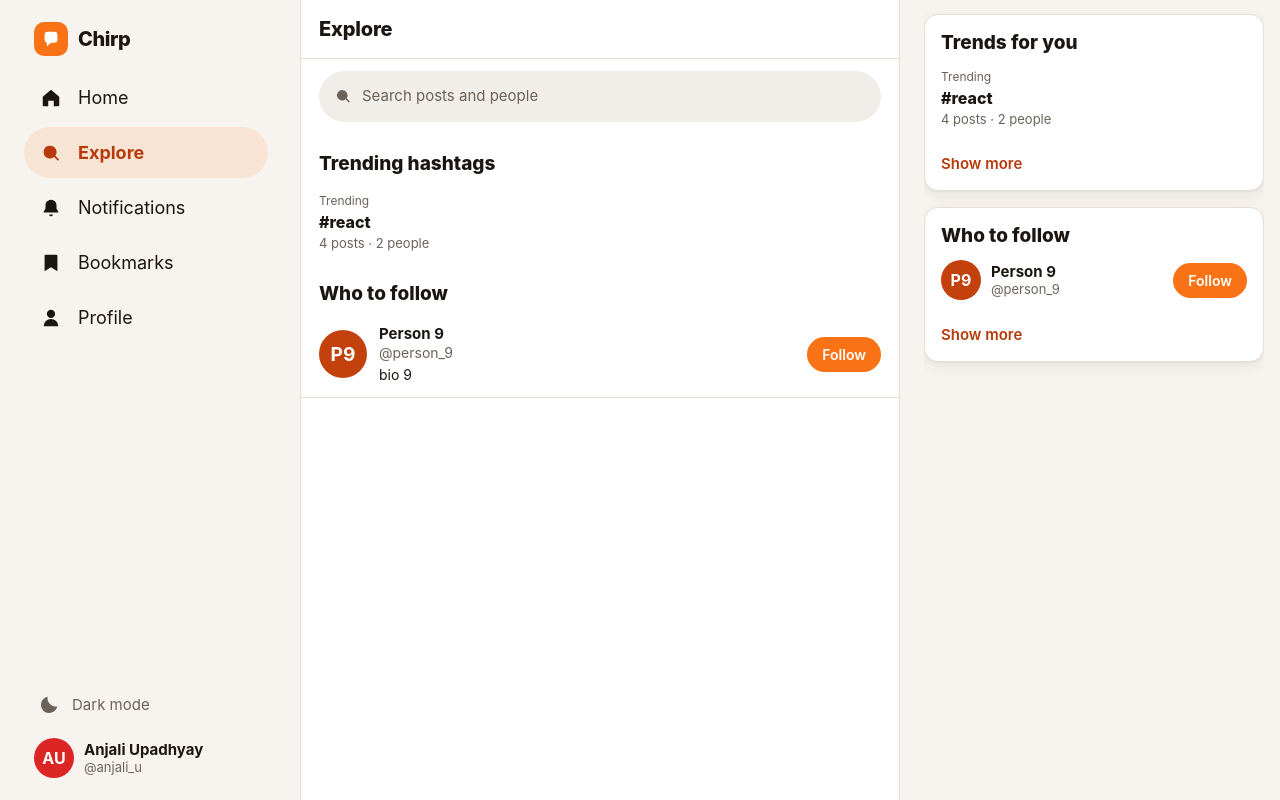
it: Explore › clicking a hashtag (in a post or the trends) searches for it
Click the link "Trending #react 4 posts · 2 people" below "Trending hashtags".
click(344, 200)  # box [319,193,429,251]
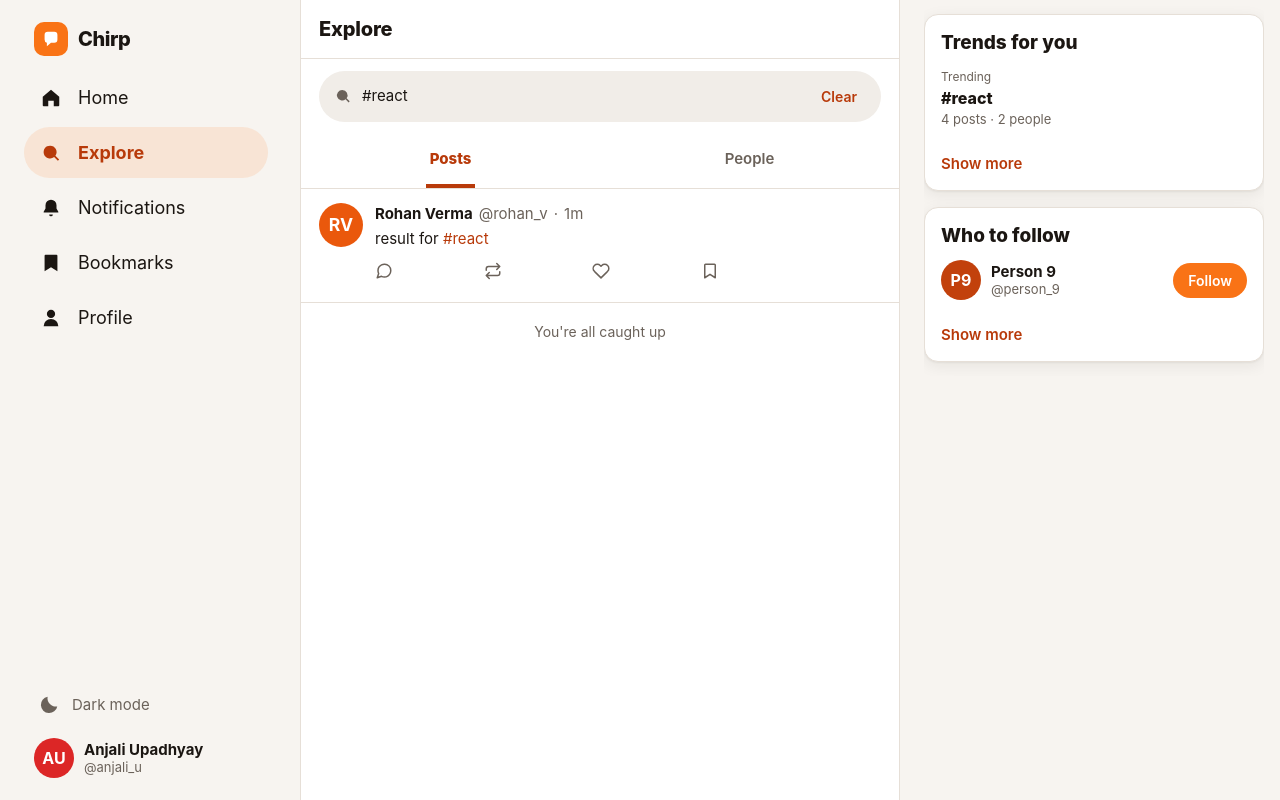
Check: the link "#react" is shown, box [443,228,489,248]
Check: the text "result for" is shown, box [375,228,443,248]
Check: the search field named "search chirp" holds "#react", box [362,76,796,116]
